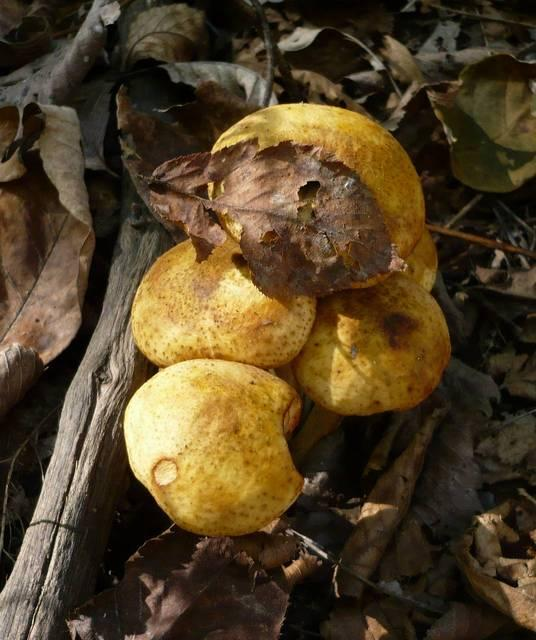edible_mushroom: (122, 100, 452, 536), (202, 100, 426, 300), (122, 357, 305, 537), (128, 232, 317, 369), (292, 271, 451, 416)
